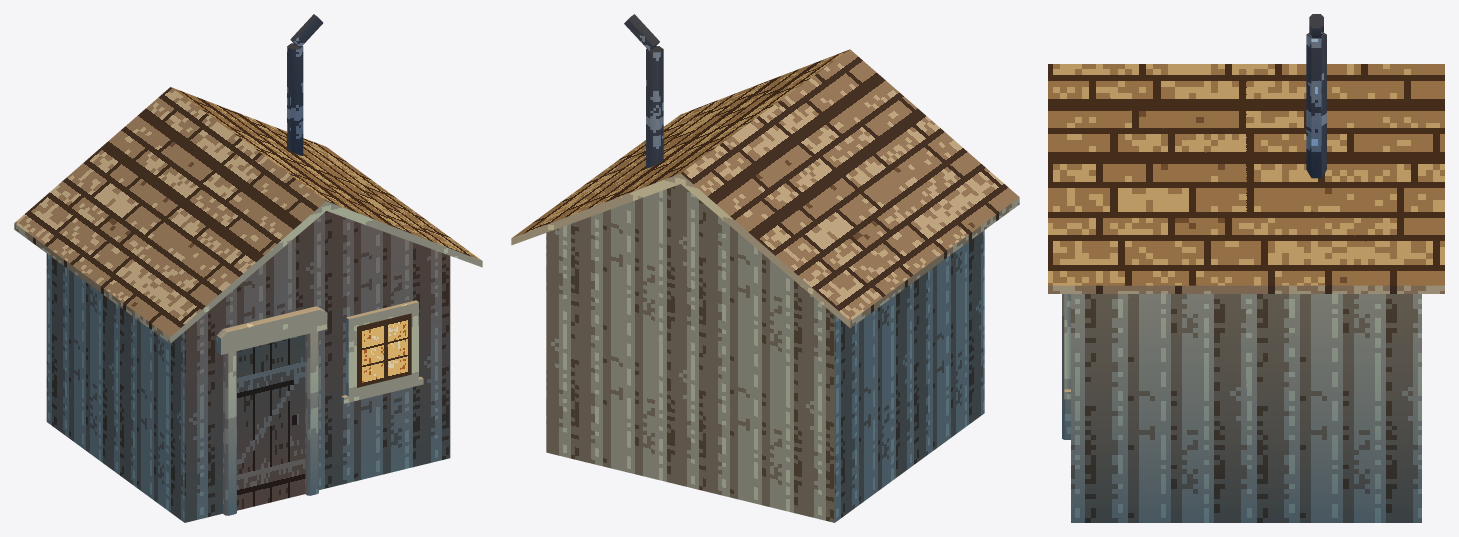
File: wtown.shack__shingle.glb
3 views of the same model, side by side, from view 1: azimuth 30°, elevation 25°; view 2: azimuth 150°, elevation 25°; view 3: azimuth 270°, elevation 25° (orthographic). The views are drawn at different scales.
Parts seen in each view (by area): view 1: kit_body, kit_roof, kit_card_panes, kit_trim, kit_windows, kit_pipe; view 2: kit_body, kit_roof, kit_pipe; view 3: kit_roof, kit_body, kit_pipe, kit_windows, kit_trim.
Part boxes in pixels (box(x1,y1,x2,y2)): kit_body: box(46, 211, 450, 522); kit_roof: box(14, 87, 482, 343); kit_card_panes: box(237, 313, 411, 510); kit_trim: box(216, 306, 327, 515); kit_windows: box(341, 300, 423, 403); kit_pipe: box(287, 43, 303, 155); kit_body: box(546, 184, 984, 522); kit_roof: box(511, 49, 1019, 328); kit_pipe: box(646, 46, 663, 168); kit_roof: box(1048, 64, 1444, 293); kit_body: box(1071, 294, 1421, 522); kit_pipe: box(1306, 33, 1326, 178); kit_windows: box(1064, 294, 1070, 399); kit_trim: box(1062, 294, 1070, 439).
Size of the model in its own units: 4 by 4.67 by 3.46.
6 materials, 6 textured.
